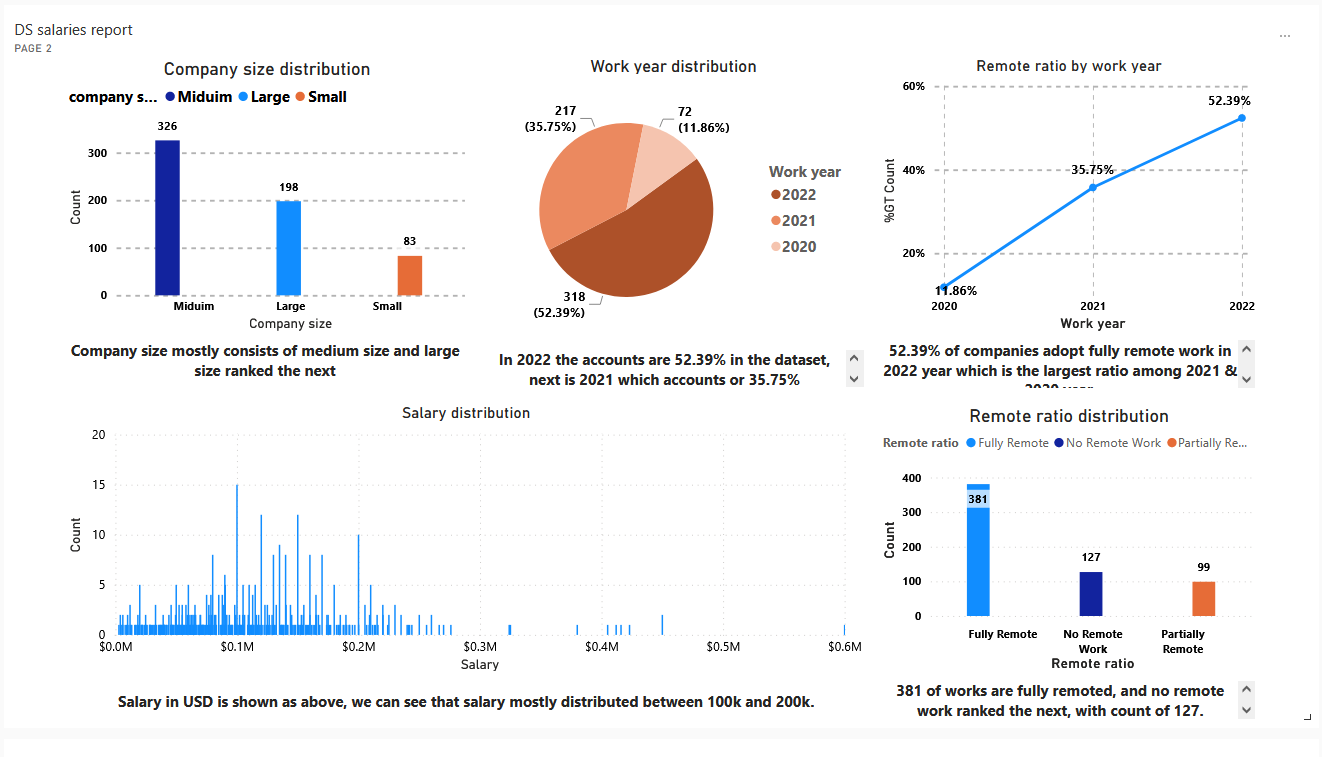

This screenshot's page, from the dashboard's own definition file:
{"tool":"powerbi","page":{"name":"Page 2","canvas":[1280,720],"ordinal":1},"visuals":[{"type":"lineClusteredColumnComboChart","title":"Company size distribution","fields":{"Category":["ds_salaries.company_size"],"Y":["CountNonNull(ds_salaries.company_size)"],"Series":["ds_salaries.company_size"]},"box":[0,0,434.9,299.5],"z":0},{"type":"pieChart","title":"Work year distribution","fields":{"Y":["CountNonNull(ds_salaries.work_year)"],"Category":["ds_salaries.work_year"]},"box":[445,0,416.2,309.6],"z":1000},{"type":"lineClusteredColumnComboChart","title":"Remote ratio distribution","fields":{"Y":["CountNonNull(ds_salaries.remote ratio)"],"Category":["ds_salaries.remote ratio"],"Series":["ds_salaries.remote ratio"]},"box":[871.2,371.5,409,292.3],"z":2000},{"type":"lineChart","title":"Remote ratio by work year","fields":{"Category":["DS Salaries.work_year"],"Y":["CountNonNull(DS Salaries.remote_ratio)"]},"box":[871.2,0,409,299.5],"z":3000},{"type":"textbox","box":[0,299.5,430.6,60.5],"z":4000},{"type":"textbox","box":[445,309.6,416.2,50.4],"z":5000},{"type":"textbox","box":[0,676.8,861.1,43.2],"z":6000},{"type":"textbox","box":[871.2,663.8,409,50.4],"z":7000},{"type":"textbox","box":[871.2,299.5,409,60.5],"z":8000},{"type":"lineClusteredColumnComboChart","title":"Salary distribution","fields":{"Y":["CountNonNull(DS Salaries.salary_in_usd)"],"Category":["DS Salaries.salary_in_usd"]},"box":[0,371.5,861.1,292.3],"z":9000}]}

Visuals, with their boxes in screenshot pixels (x1, y1, x2, y2), scaled from the page's 1280x720 canvas onto the 1322x757 screenshot:
"Company size distribution" lineClusteredColumnComboChart: <box>0,0,449,315</box>
"Work year distribution" pieChart: <box>460,0,889,326</box>
"Remote ratio distribution" lineClusteredColumnComboChart: <box>900,391,1321,698</box>
"Remote ratio by work year" lineChart: <box>900,0,1321,315</box>
textbox: <box>0,315,445,378</box>
textbox: <box>460,326,889,378</box>
textbox: <box>0,712,889,756</box>
textbox: <box>900,698,1321,751</box>
textbox: <box>900,315,1321,378</box>
"Salary distribution" lineClusteredColumnComboChart: <box>0,391,889,698</box>
